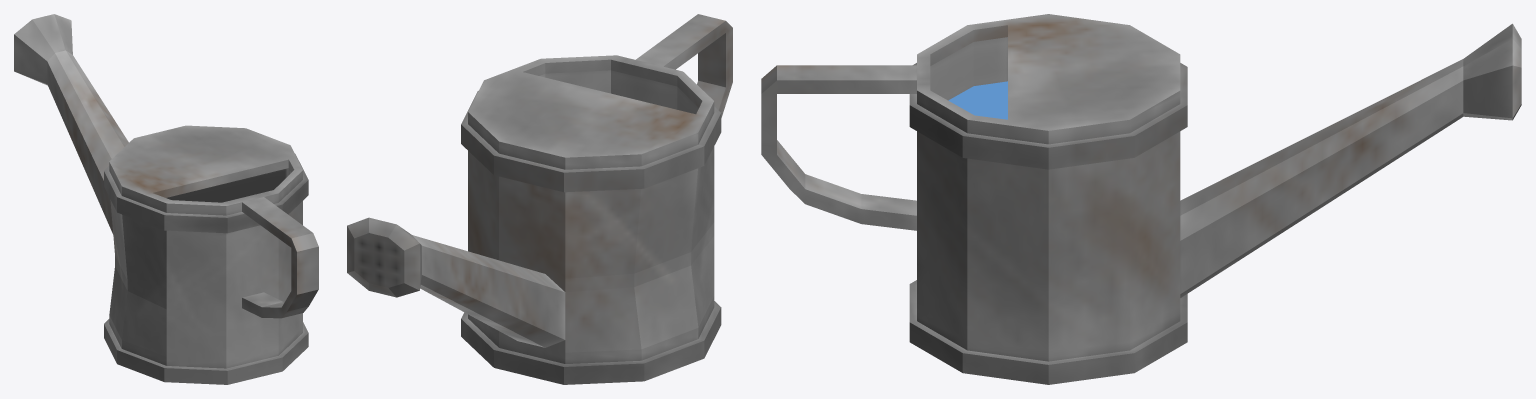
Rendered from WateringCan 1.fbx.
The picture shows the model from 3 angles, left to right: view 1: azimuth 30°, elevation 25°; view 2: azimuth 150°, elevation 25°; view 3: azimuth 270°, elevation 25°; orthographic projection. The views are drawn at different scales.
Parts seen in each view (by area): view 1: Gat140_Prop_WateringCan; view 2: Gat140_Prop_WateringCan; view 3: Gat140_Prop_WateringCan.
Boxes of the visible parts, x1,y1,x2,y2 form: Gat140_Prop_WateringCan: (14, 14, 318, 384); Gat140_Prop_WateringCan: (347, 14, 732, 384); Gat140_Prop_WateringCan: (761, 14, 1521, 384).
Bounding box in the file's own units: 2.11 × 2.33 × 5.49.
2 materials, 1 textured.
